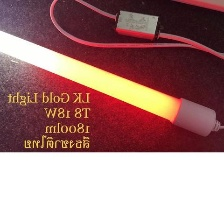light_bulb: (0, 24, 219, 143)
